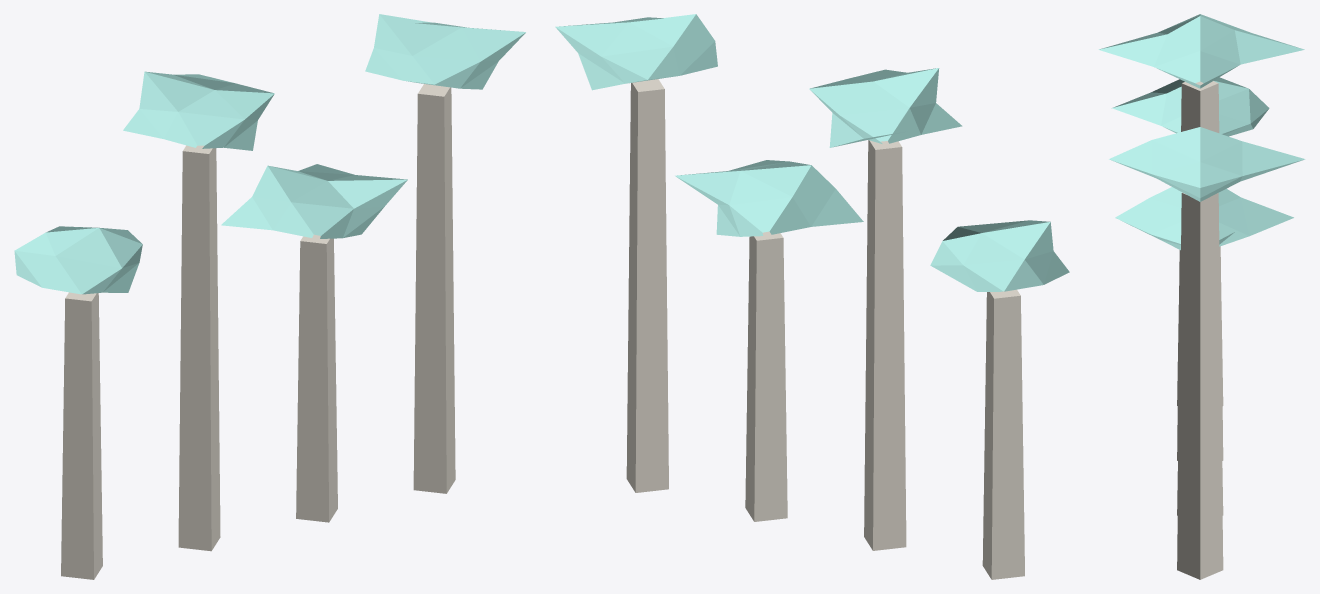
The model's file is glowcap_v35.glb.
The picture shows the model from 3 angles, left to right: view 1: azimuth 30°, elevation 25°; view 2: azimuth 150°, elevation 25°; view 3: azimuth 270°, elevation 25°; orthographic projection. The views are drawn at different scales.
Parts seen in each view (by area): view 1: lod0; view 2: lod0; view 3: lod0.
Boxes of the visible parts, x1=… form: lod0: x1=14, y1=14, x2=525, y2=579; lod0: x1=555, y1=14, x2=1069, y2=579; lod0: x1=1098, y1=14, x2=1305, y2=579.
Size of what is drawn, in the model's own units: 0.6073 by 0.5326 by 0.2244.
